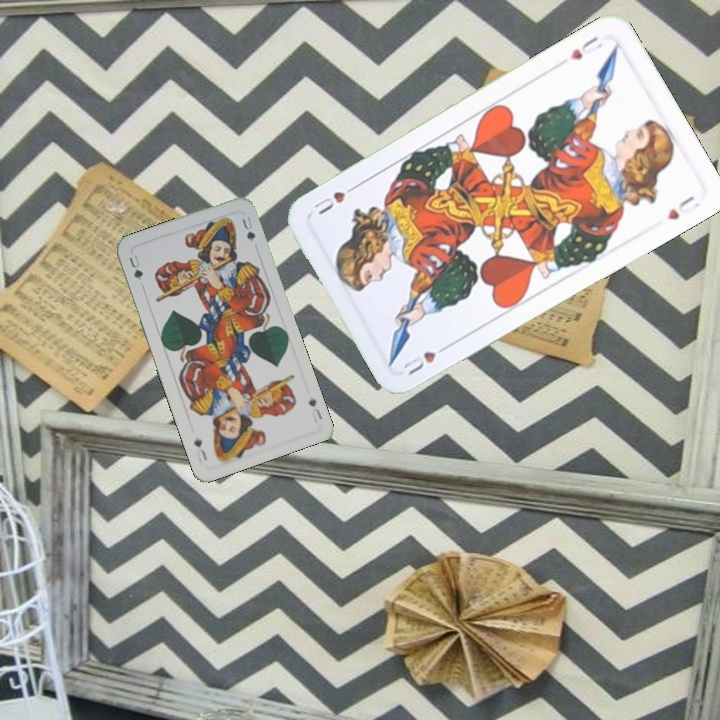GU: (125, 251, 146, 283), (304, 395, 325, 422)
HU: (399, 340, 453, 378), (565, 32, 606, 63)
